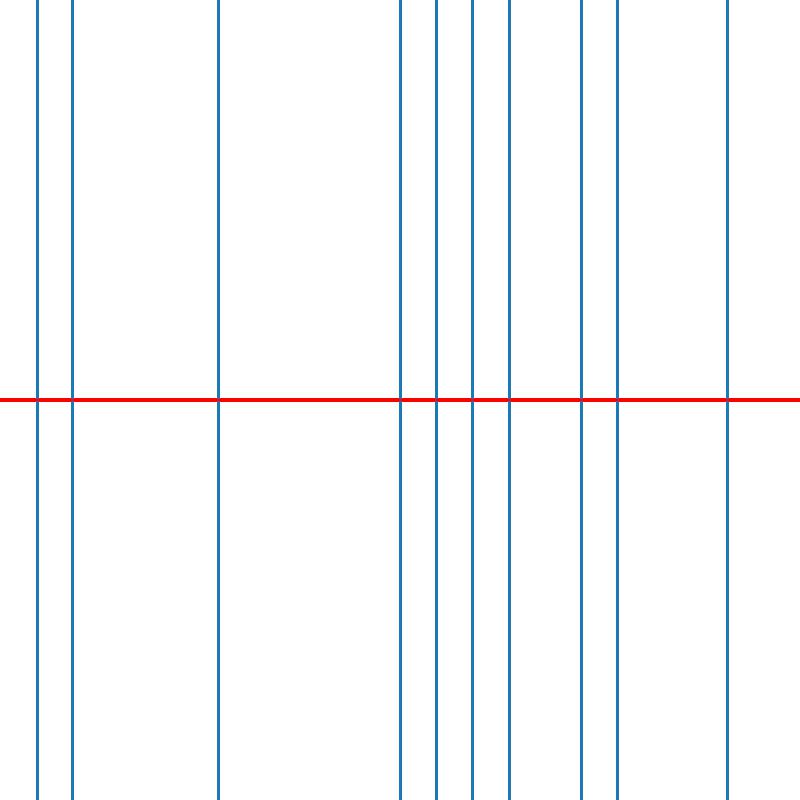root: (432, 396, 440, 404), (32, 396, 40, 404), (69, 396, 76, 404), (505, 396, 512, 404), (469, 396, 476, 404), (214, 396, 221, 404), (396, 396, 403, 404), (578, 396, 585, 404), (723, 396, 730, 404), (614, 396, 621, 404)
